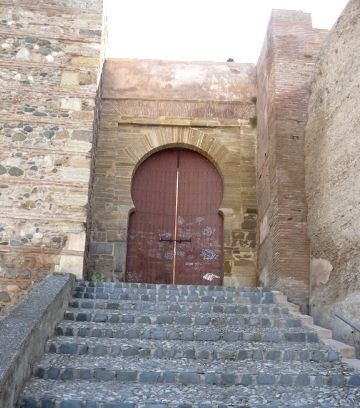arco-herradura: (119, 138, 232, 223)
